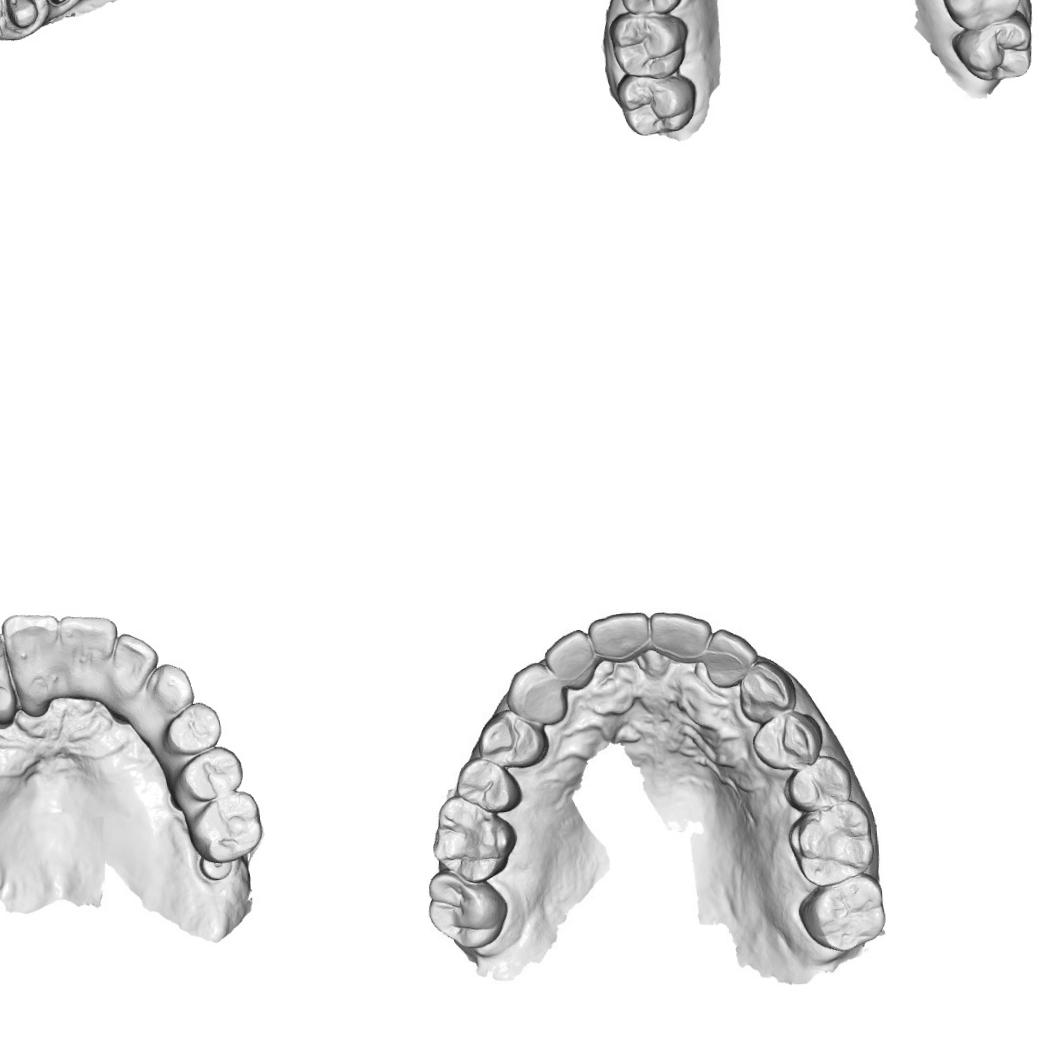abutment: (37, 0, 76, 9)
canine: (734, 650, 802, 724), (502, 660, 569, 728), (142, 660, 196, 716)
crown: (0, 0, 43, 31)
implant: (196, 856, 234, 880)
incisor: (0, 609, 63, 718), (56, 612, 121, 704), (697, 622, 754, 692), (645, 608, 714, 665), (112, 630, 162, 708), (583, 608, 652, 664), (542, 626, 597, 693), (0, 629, 16, 725)
molar: (424, 788, 521, 886), (783, 797, 876, 890), (796, 872, 889, 955), (946, 7, 1036, 86), (423, 870, 508, 952), (611, 71, 701, 139), (606, 9, 691, 80), (188, 788, 264, 864), (935, 0, 1025, 32)
premolar: (470, 706, 551, 770), (752, 706, 828, 774), (454, 756, 524, 820), (784, 753, 854, 816), (173, 743, 244, 804), (162, 698, 224, 756), (613, 0, 685, 21)
